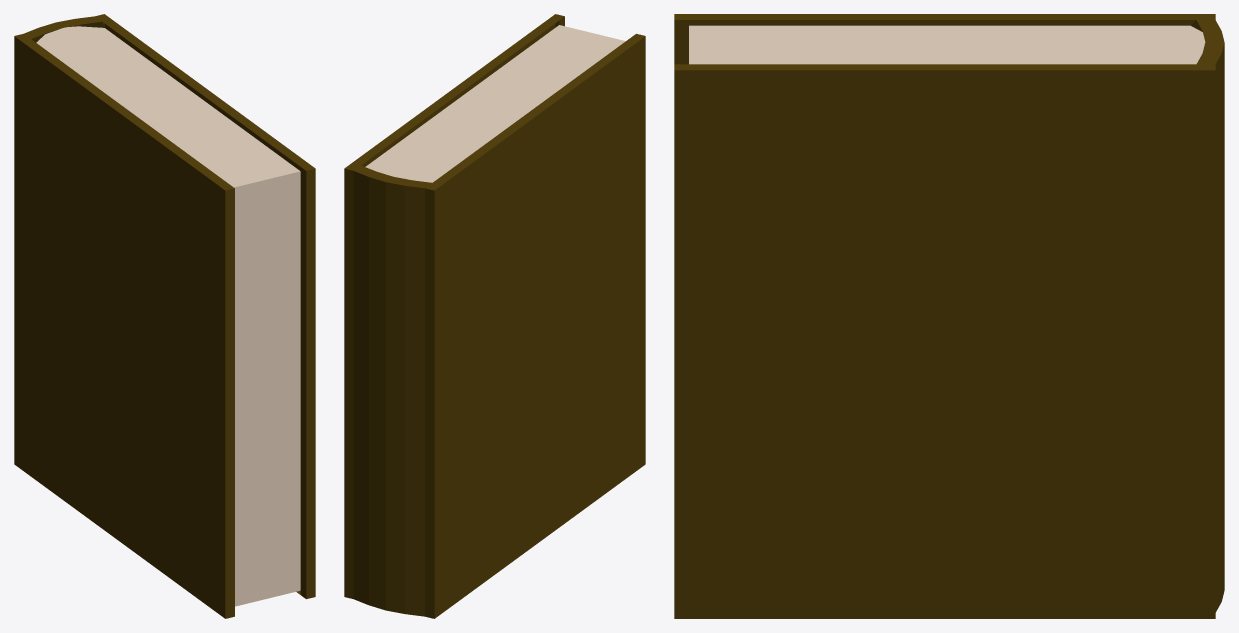
The model's file is livro6.fbx.
The picture shows the model from 3 angles, left to right: view 1: azimuth 30°, elevation 25°; view 2: azimuth 150°, elevation 25°; view 3: azimuth 270°, elevation 25°; orthographic projection. The views are drawn at different scales.
Visible parts, largest first — view 1: Cube; view 2: Cube; view 3: Cube.
Boxes of the visible parts, bbox=[...] form: Cube: bbox=[14, 14, 315, 618]; Cube: bbox=[344, 14, 645, 618]; Cube: bbox=[674, 14, 1224, 618].
Size of the model in its own units: 32.4 by 147 by 133.
